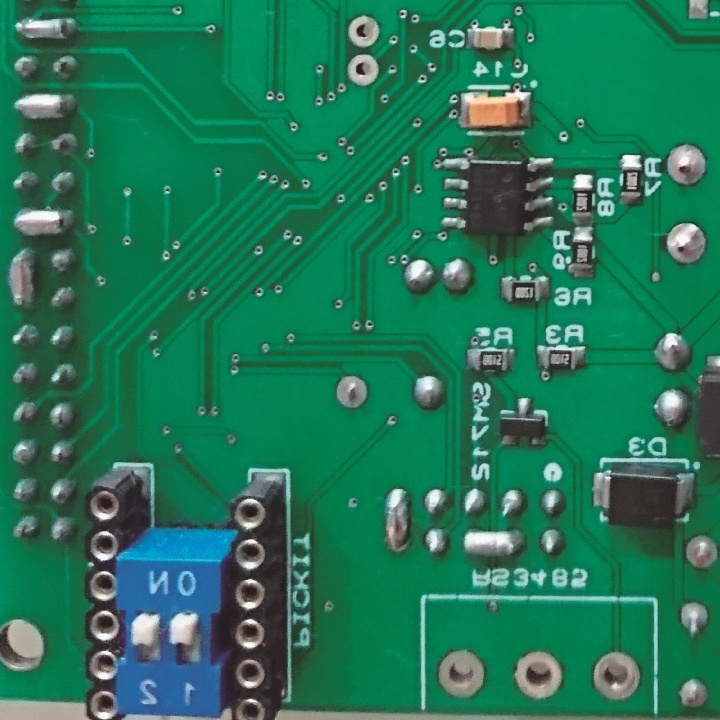F: (510, 647, 567, 702), (590, 649, 647, 702), (436, 644, 489, 700), (660, 220, 709, 266), (661, 143, 708, 186), (681, 532, 720, 575), (335, 371, 370, 415), (676, 601, 714, 639), (344, 14, 385, 49), (344, 51, 381, 89), (675, 674, 712, 711)
P: (4, 246, 43, 313), (10, 89, 85, 123), (8, 206, 81, 240), (461, 525, 528, 562), (13, 15, 81, 47), (381, 483, 411, 555)
